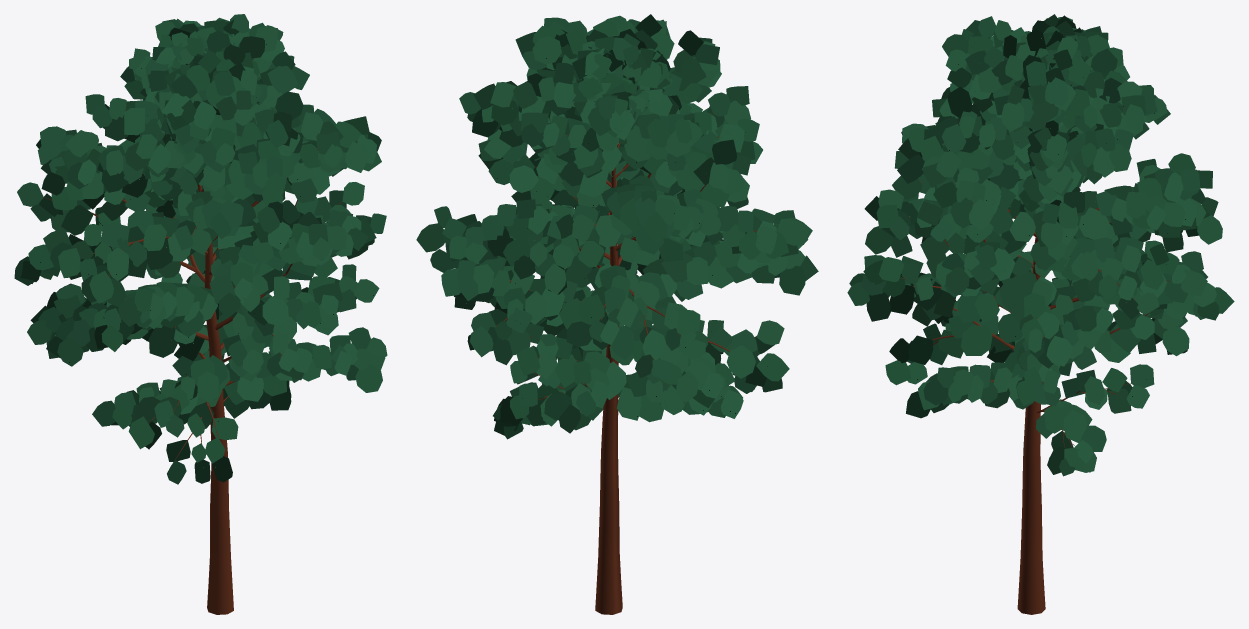
File: bigLeavesTreeSmoothTest.fbx
3 views of the same model, side by side, from view 1: azimuth 30°, elevation 25°; view 2: azimuth 150°, elevation 25°; view 3: azimuth 270°, elevation 25° (orthographic). The views are drawn at different scales.
Parts seen in each view (by area): view 1: bigLeavesTree; view 2: bigLeavesTree; view 3: bigLeavesTree.
Boxes of the visible parts, <box> form: bigLeavesTree: <box>14,14,387,614</box>; bigLeavesTree: <box>416,14,818,614</box>; bigLeavesTree: <box>847,14,1234,614</box>.
Bounding box in the file's own units: 399 × 634 × 384.
